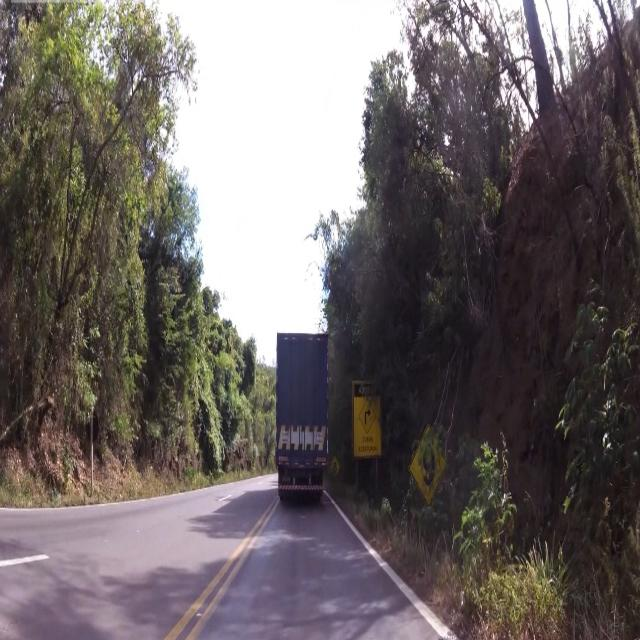A-1b: (357, 400, 382, 434)
